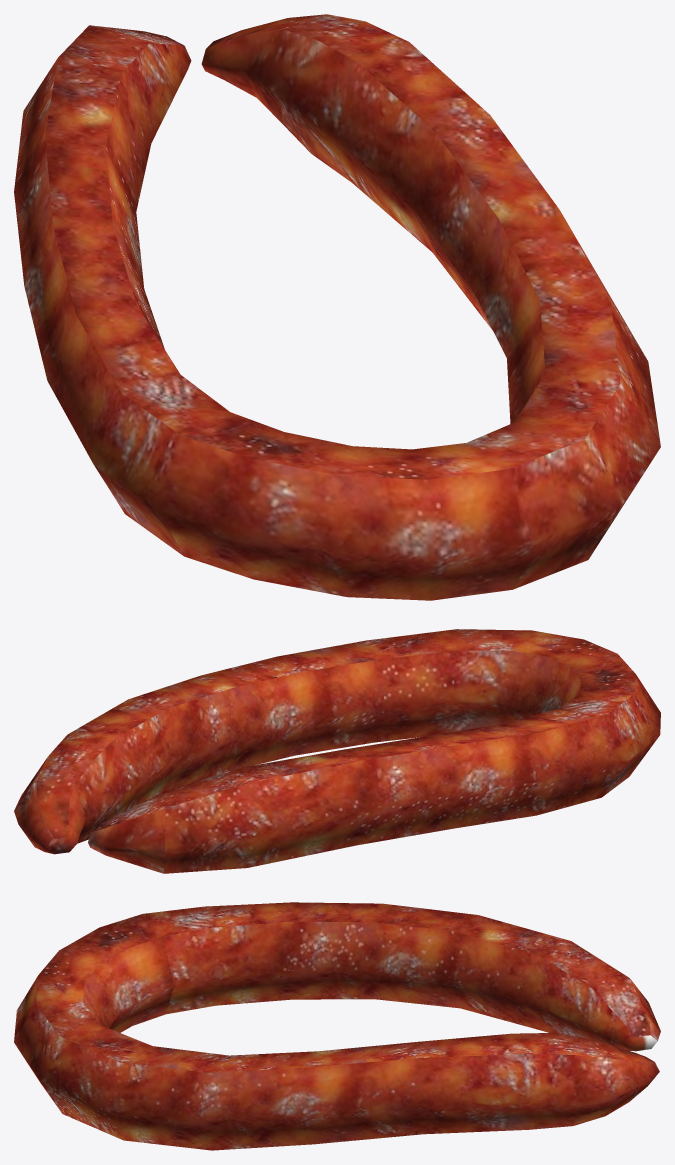
The model's file is SM_配餐区_肉蛋类_01.fbx.
3 renders of one model, top to bottom at view 1: azimuth 30°, elevation 25°; view 2: azimuth 150°, elevation 25°; view 3: azimuth 270°, elevation 25°, orthographic. The views are drawn at different scales.
Visible parts, largest first — view 1: SM_配餐区_肉蛋类_01; view 2: SM_配餐区_肉蛋类_01; view 3: SM_配餐区_肉蛋类_01.
Boxes of the visible parts, x1,y1,x2,y2 form: SM_配餐区_肉蛋类_01: (14, 14, 660, 600); SM_配餐区_肉蛋类_01: (14, 629, 660, 873); SM_配餐区_肉蛋类_01: (14, 902, 660, 1150).
Bounding box in the file's own units: 157 × 55.94 × 235.
